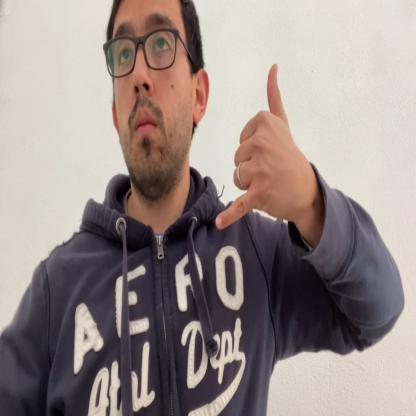Y: (215, 63, 311, 230)
